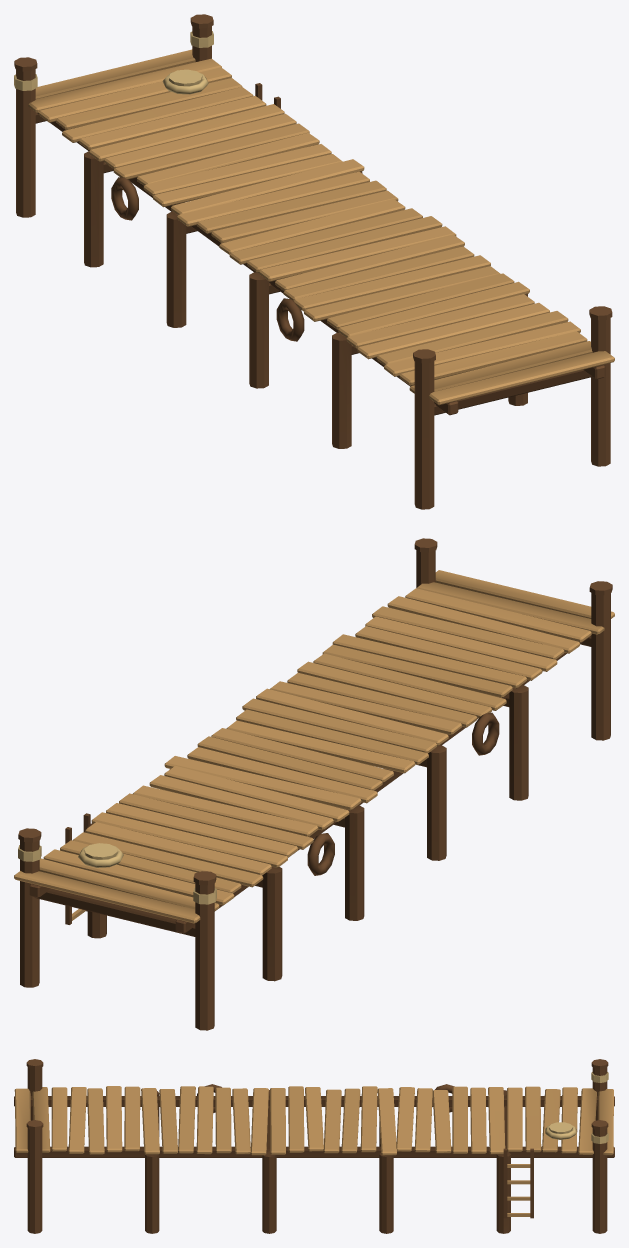
Rendered from dermaga.glb.
3 views of the same model, one above another, from view 1: azimuth 30°, elevation 25°; view 2: azimuth 150°, elevation 25°; view 3: azimuth 270°, elevation 25° (orthographic). The views are drawn at different scales.
Visible parts, largest first — view 1: dermaga_mesh; view 2: dermaga_mesh; view 3: dermaga_mesh.
Boxes of the visible parts, bbox=[...] form: dermaga_mesh: bbox=[14, 14, 614, 509]; dermaga_mesh: bbox=[14, 538, 614, 1030]; dermaga_mesh: bbox=[14, 1059, 614, 1233].
Size of the model in its own units: 2.74 by 1.97 by 10.
